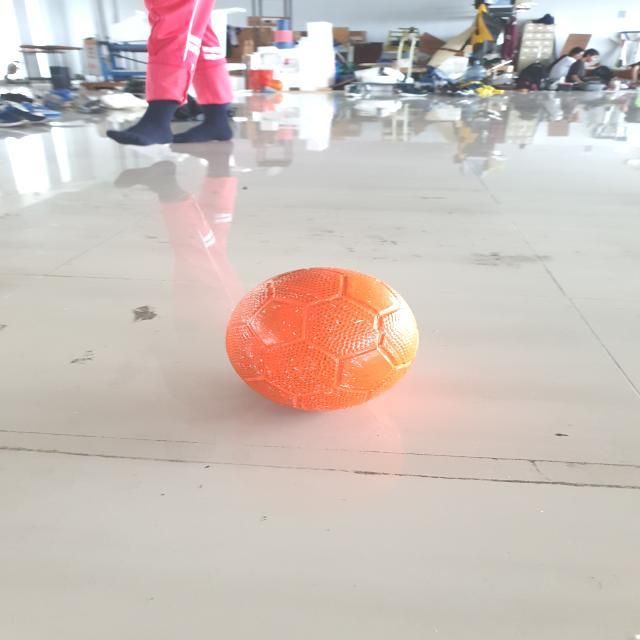bola: (221, 257, 429, 420)
